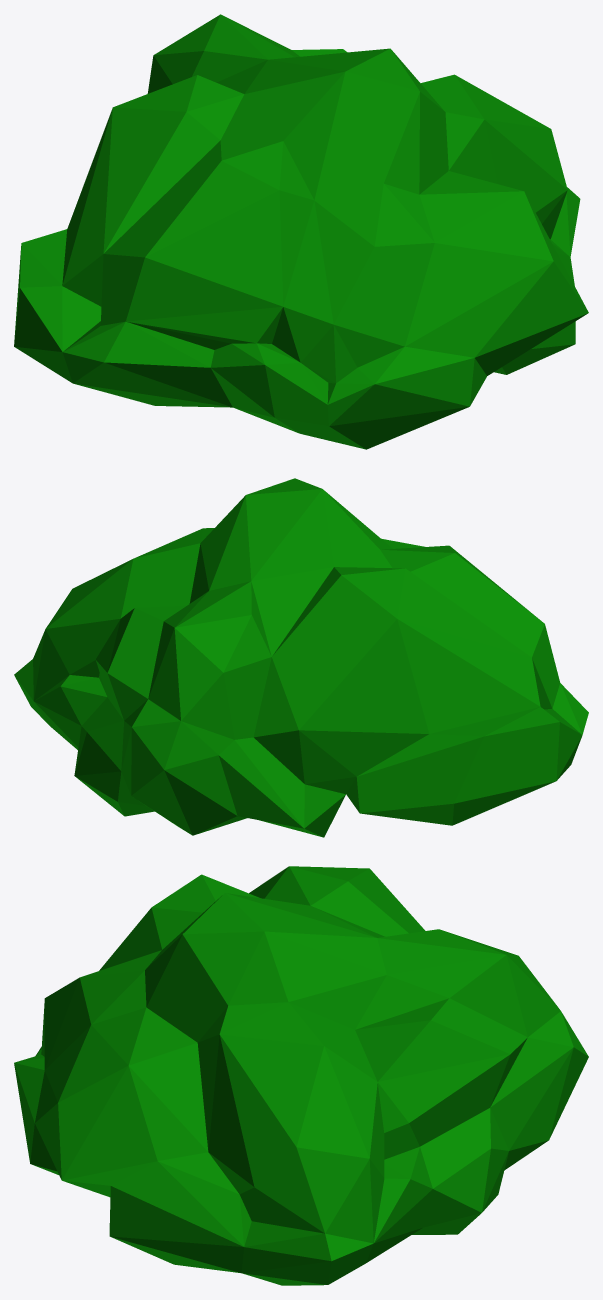
File: tree_leaves.fbx
3 views of the same model, one above another, from view 1: azimuth 30°, elevation 25°; view 2: azimuth 150°, elevation 25°; view 3: azimuth 270°, elevation 25° (orthographic). The views are drawn at different scales.
Visible parts, largest first — view 1: Agac_top; view 2: Agac_top; view 3: Agac_top.
Boxes of the visible parts, x1,y1,x2,y2 form: Agac_top: (14, 14, 588, 449); Agac_top: (14, 478, 588, 837); Agac_top: (14, 866, 588, 1285).
Size of the model in its own units: 10.71 by 5.54 by 9.38.
